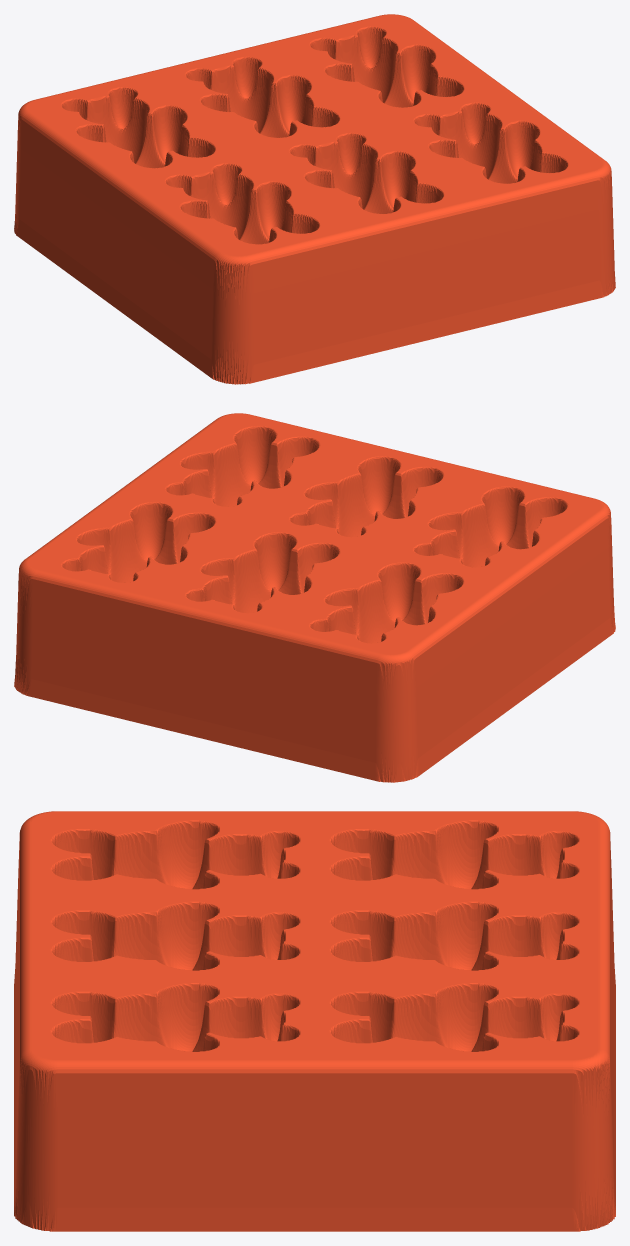
The model's file is mold.glb.
3 renders of one model, top to bottom at view 1: azimuth 30°, elevation 25°; view 2: azimuth 150°, elevation 25°; view 3: azimuth 270°, elevation 25°, orthographic. The views are drawn at different scales.
Parts seen in each view (by area): view 1: geometry_0; view 2: geometry_0; view 3: geometry_0.
Part boxes in pixels (x1=…): geometry_0: x1=14, y1=14, x2=615, y2=384; geometry_0: x1=14, y1=413, x2=615, y2=782; geometry_0: x1=14, y1=811, x2=615, y2=1231.
Size of the model in its own units: 0.1292 by 0.0377 by 0.1252.
